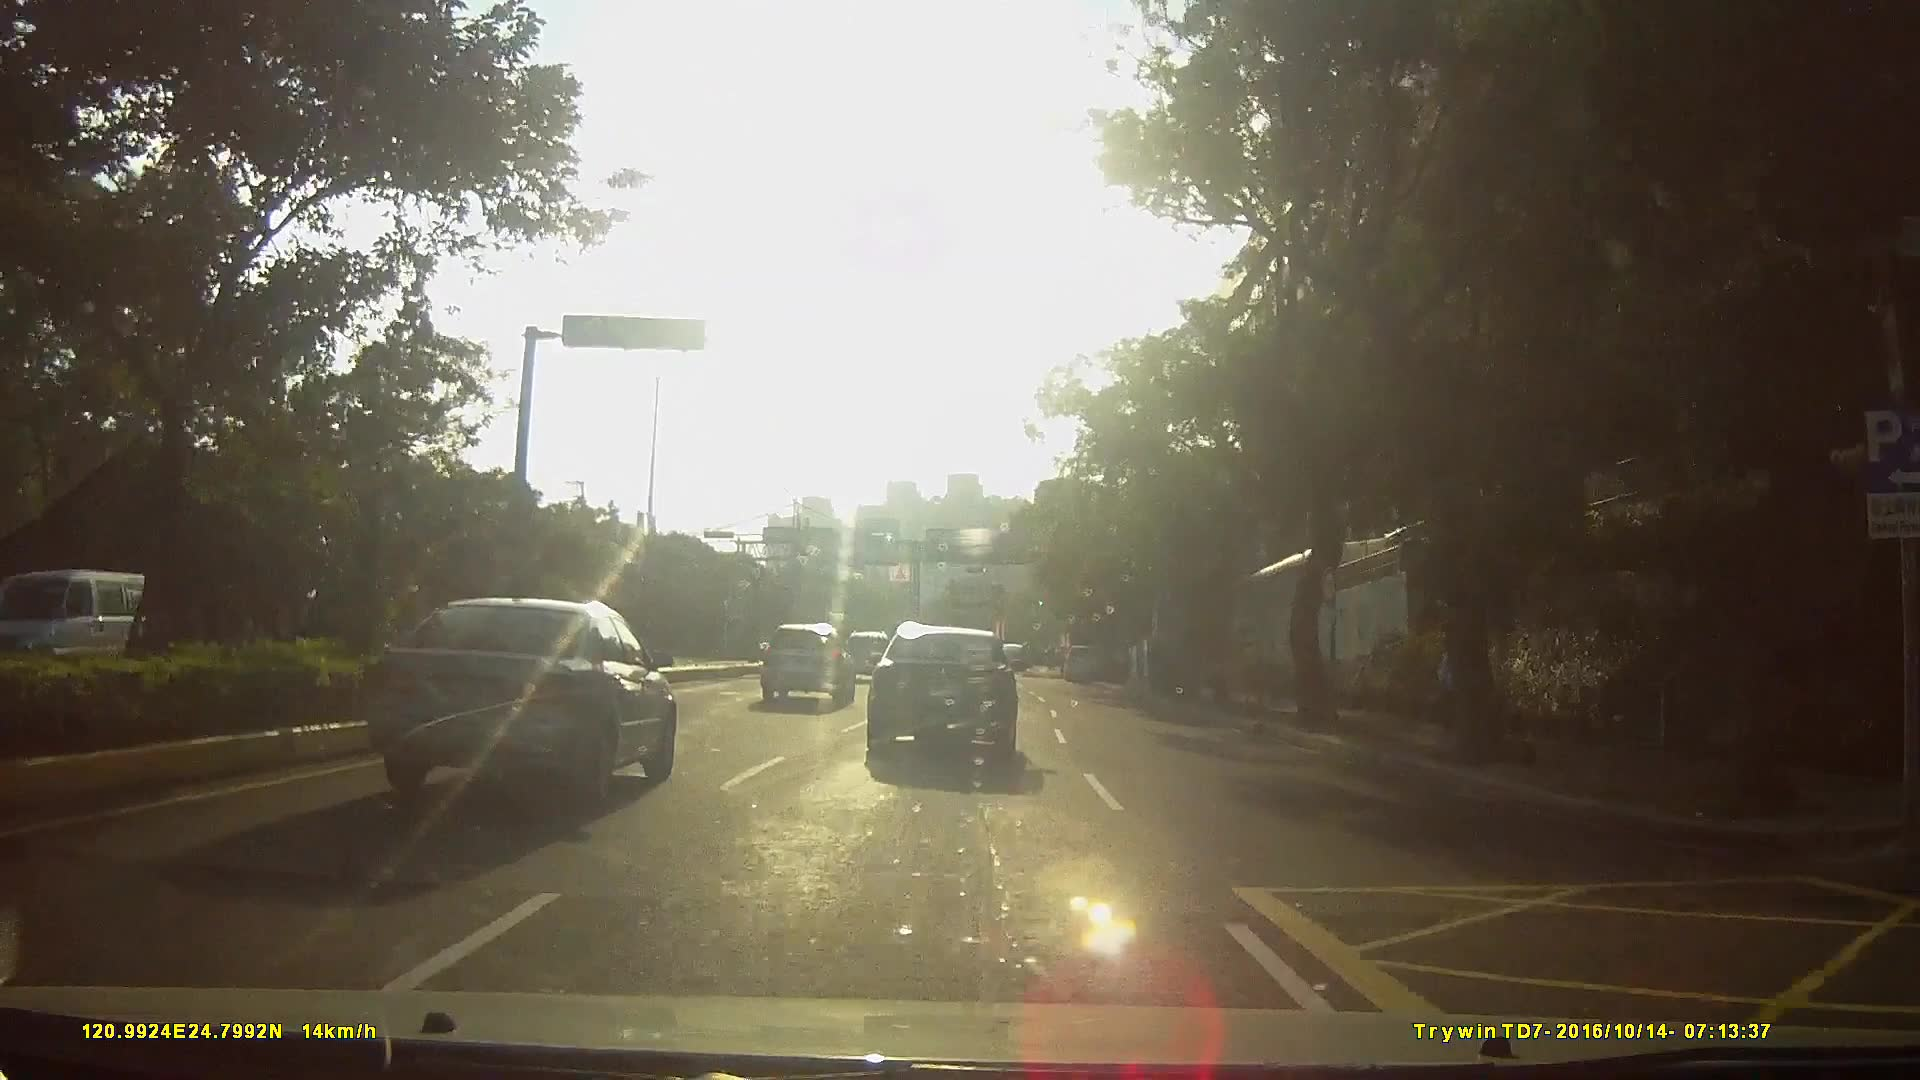vehicle: (367, 592, 676, 808), (866, 618, 1043, 764), (1, 571, 182, 703), (756, 617, 856, 705), (840, 625, 895, 675), (1065, 636, 1112, 678)
